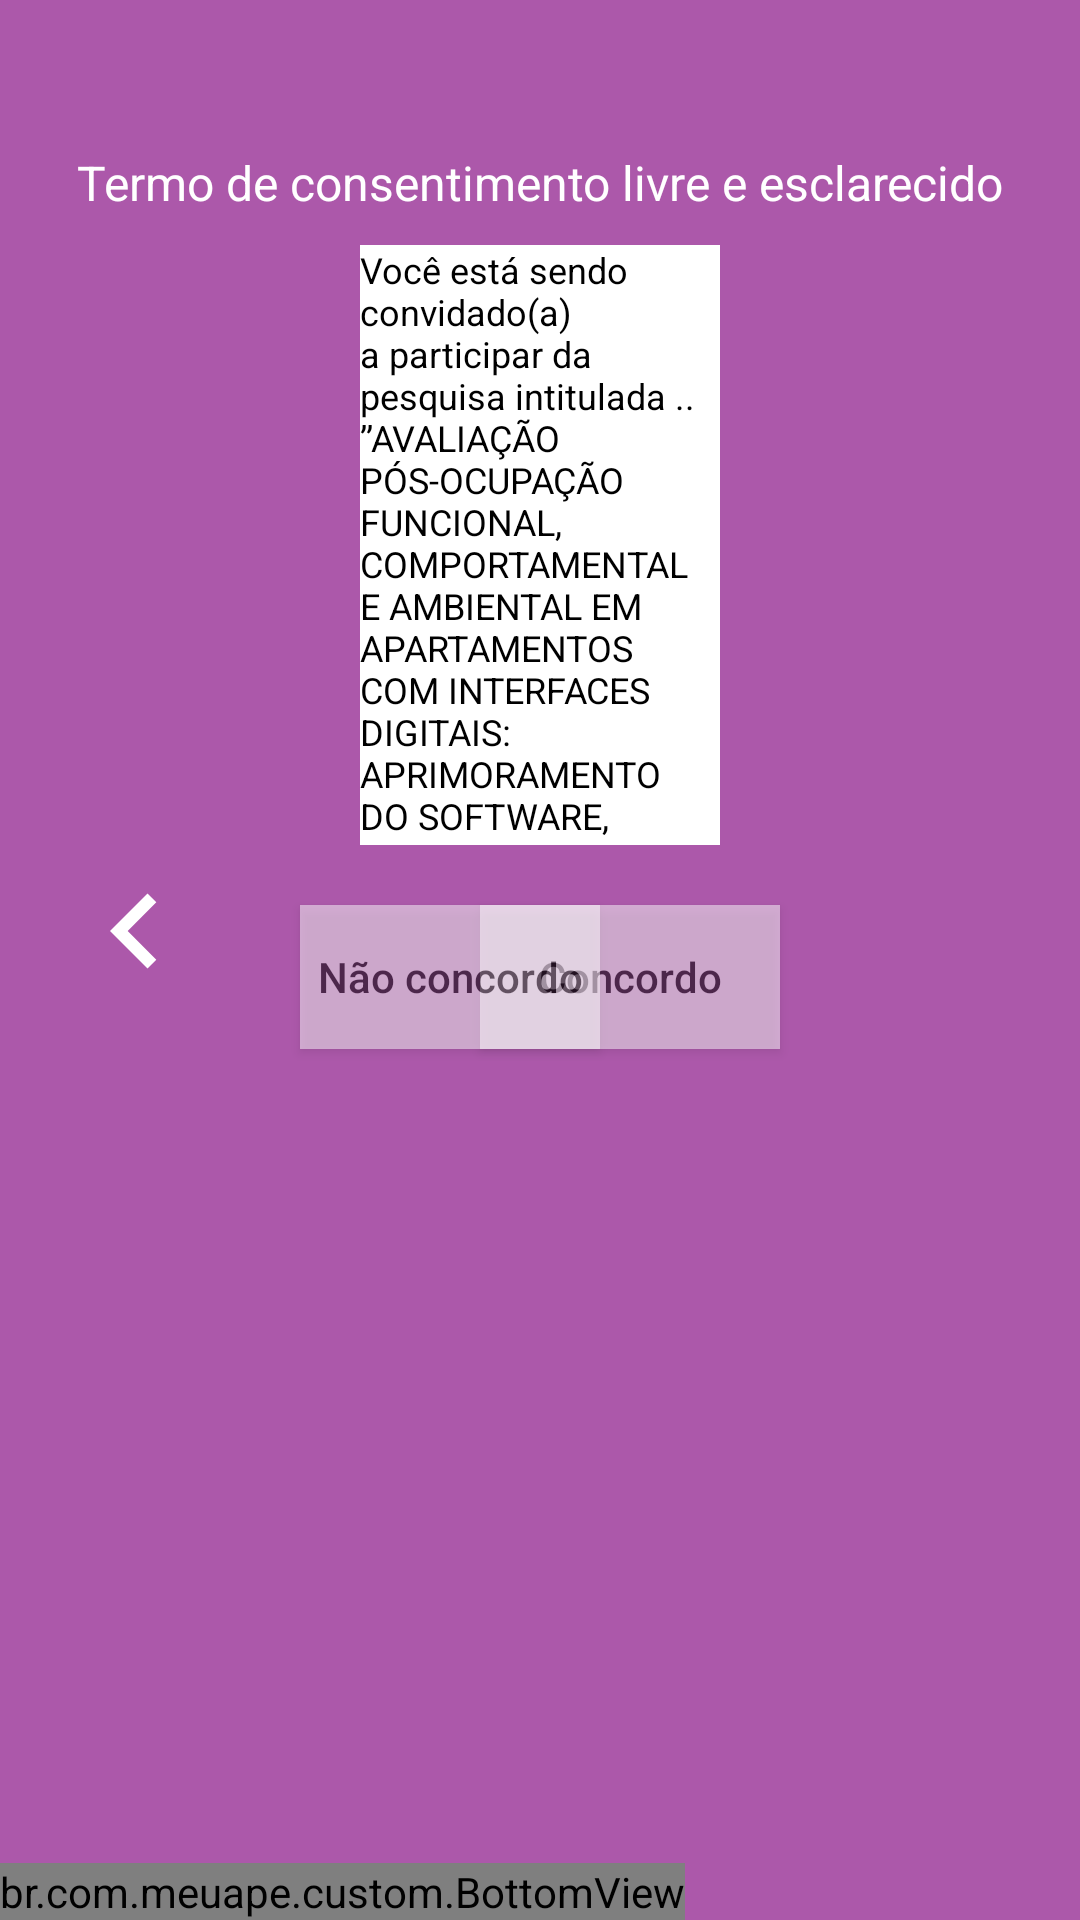

Point at icon controls on the screen. Image size 1080w x 1920h, points as (x,y).
back: (133,931)
